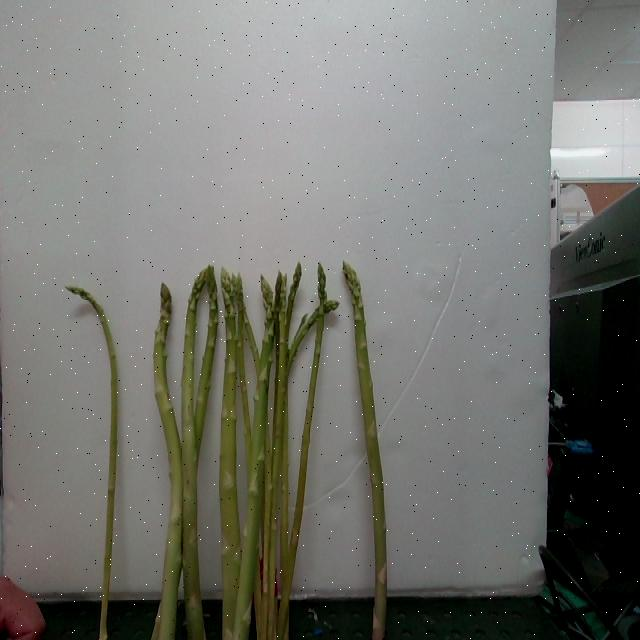aspargus: (64, 286, 120, 640), (345, 265, 390, 640), (153, 285, 187, 640)
